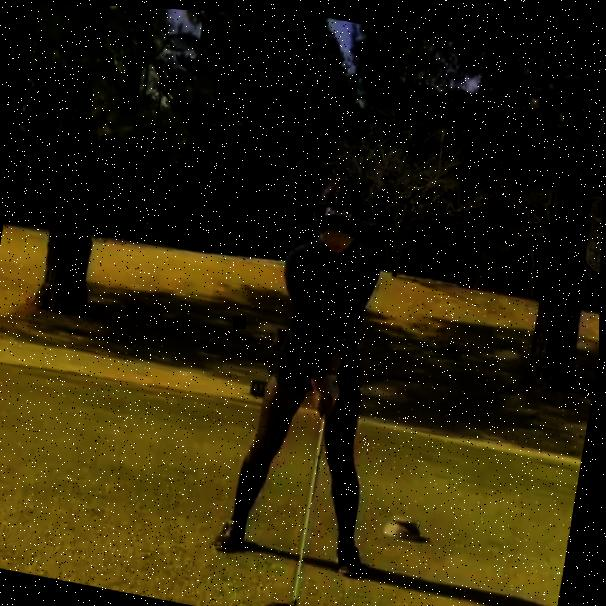ClubHead: (264, 594, 303, 606)
GolfBall: (307, 605, 323, 606)
